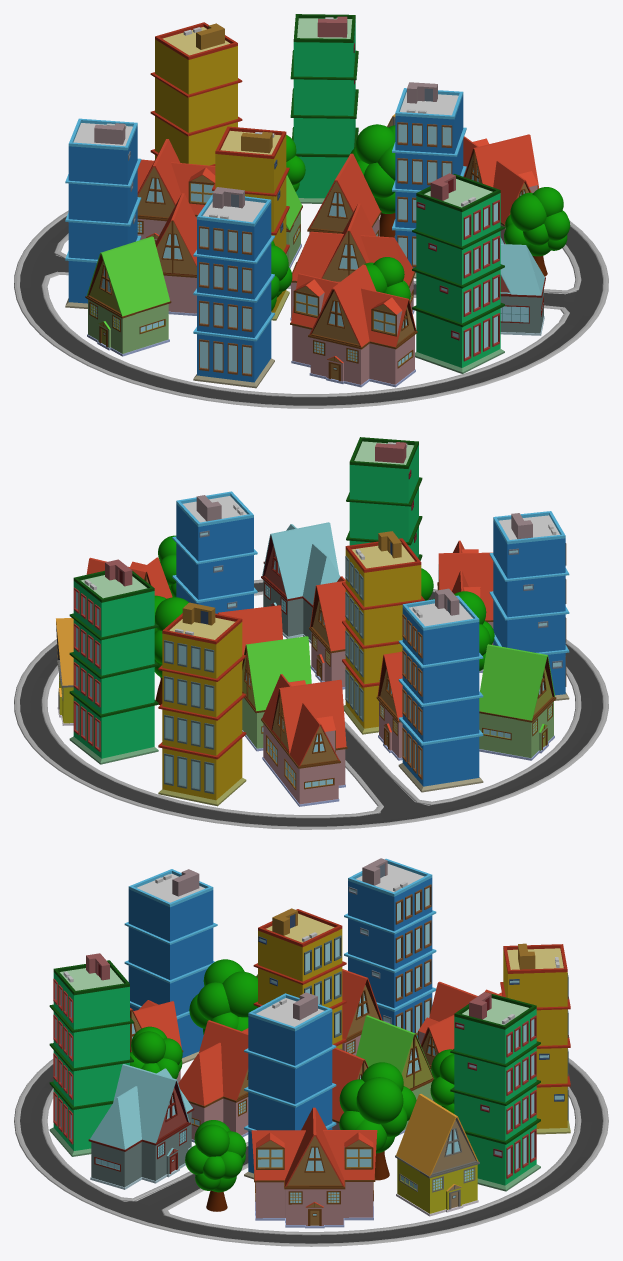
Rendered from City_Level2.fbx.
The picture shows the model from 3 angles, top to bottom: view 1: azimuth 30°, elevation 25°; view 2: azimuth 150°, elevation 25°; view 3: azimuth 270°, elevation 25°; orthographic projection.
Parts seen in each view (by area): view 1: OutterRing.001, Cube.021, Cube.028, Cube.017, Cube.030, Cube, Cube.026, Cube.029, Cube.022, Cube.023, Cube.025, Cube.018 (+10 smaller); view 2: OutterRing.001, Cube.030, Cube.026, Cube, Cube.028, Cube.023, Cube.018, Cube.029, Cube.022, Cube.021, Cube.027, Cube.019 (+9 smaller); view 3: OutterRing.001, Cube.030, Cube.021, Cube, Cube.016, Cube.028, Cube.029, Cube.027, Cube.026, Cube.023, Cube.024, Cube.025 (+10 smaller).
Boxes of the visible parts, bbox=[...] form: OutterRing.001: bbox=[14, 210, 608, 408]; Cube.021: bbox=[412, 173, 504, 373]; Cube.028: bbox=[193, 187, 274, 388]; Cube.017: bbox=[290, 264, 417, 387]; Cube.030: bbox=[290, 14, 358, 203]; Cube: bbox=[65, 118, 141, 308]; Cube.026: bbox=[150, 22, 242, 165]; Cube.029: bbox=[392, 82, 466, 278]; Cube.022: bbox=[85, 236, 171, 356]; Cube.023: bbox=[212, 126, 289, 320]; Cube.025: bbox=[290, 203, 415, 320]; Cube.018: bbox=[137, 139, 215, 242]; OutterRing.001: bbox=[14, 578, 608, 829]; Cube.030: bbox=[69, 559, 158, 764]; Cube.026: bbox=[158, 602, 246, 806]; Cube: bbox=[398, 588, 483, 792]; Cube.028: bbox=[489, 511, 569, 700]; Cube.023: bbox=[342, 531, 424, 734]; Cube.018: bbox=[261, 674, 347, 806]; Cube.029: bbox=[172, 491, 257, 613]; Cube.022: bbox=[479, 644, 556, 760]; Cube.021: bbox=[346, 437, 422, 560]; Cube.027: bbox=[261, 522, 340, 643]; Cube.019: bbox=[242, 636, 311, 751]; OutterRing.001: bbox=[14, 1058, 608, 1246]; Cube.030: bbox=[450, 992, 540, 1191]; Cube.021: bbox=[49, 953, 133, 1156]; Cube: bbox=[344, 858, 436, 1037]; Cube.016: bbox=[251, 1107, 377, 1228]; Cube.028: bbox=[124, 869, 217, 1063]; Cube.029: bbox=[244, 992, 336, 1179]; Cube.027: bbox=[88, 1064, 194, 1189]; Cube.026: bbox=[500, 943, 570, 1134]; Cube.023: bbox=[253, 908, 346, 1049]; Cube.024: bbox=[395, 1094, 479, 1216]; Cube.025: bbox=[178, 1020, 248, 1142].
Bounding box in the file's own units: 796 × 259 × 796.
